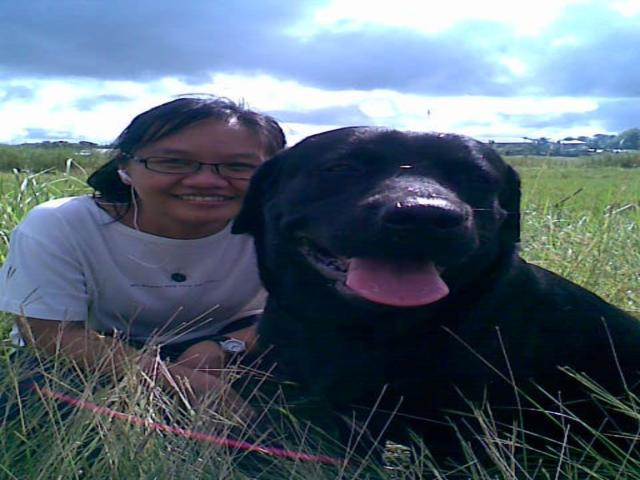Dog: (229, 124, 639, 479)
